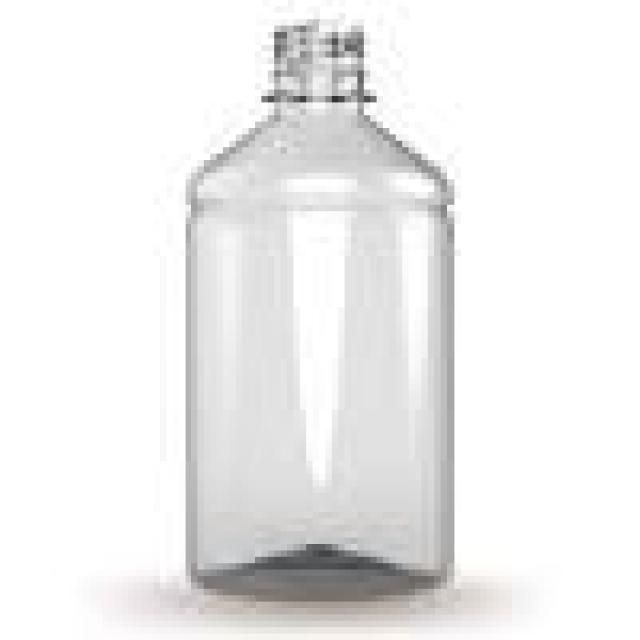bottle: (187, 21, 453, 598)
